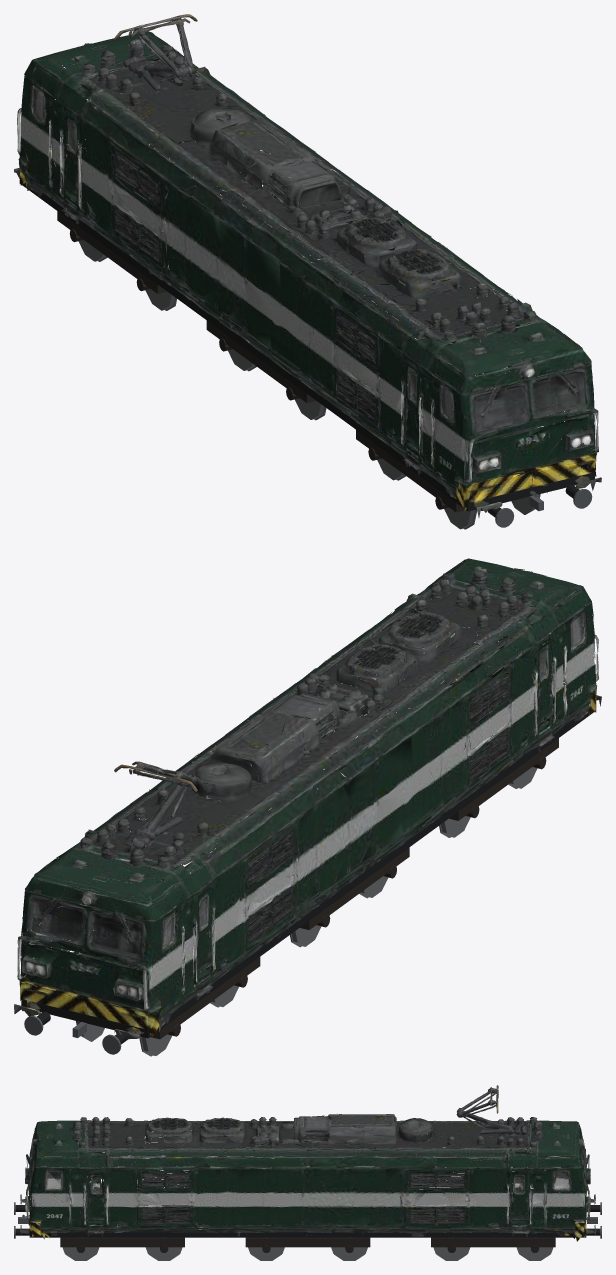
Rendered from srt_m.glb.
3 renders of one model, top to bottom at view 1: azimuth 30°, elevation 25°; view 2: azimuth 150°, elevation 25°; view 3: azimuth 270°, elevation 25°, orthographic. The views are drawn at different scales.
Parts seen in each view (by area): view 1: srt_kori, srt_frame, Bogie_M_side-1, Bogie_R_side-1, Bogie_F_side-1; view 2: srt_kori, srt_frame, Bogie_M_side-1, Bogie_F_side-1, Bogie_R_side-1; view 3: srt_kori, srt_frame, Bogie_M_side1, Bogie_F_side1, Bogie_R_side1, Wheel_M1_wR, Wheel_M2_wR, Wheel_F1_wR, Wheel_R2_wR, Wheel_F2_wR, Wheel_R1_wR.
Boxes of the visible parts, x1,y1,x2,y2 form: srt_kori: (14,14,601,517); srt_frame: (20,144,594,511); Bogie_M_side-1: (206,320,316,403); Bogie_R_side-1: (57,211,166,293); Bogie_F_side-1: (356,430,464,512); srt_kori: (14,558,601,1039); srt_frame: (21,672,593,1038); Bogie_M_side-1: (300,847,409,929); Bogie_F_side-1: (449,738,558,820); Bogie_R_side-1: (151,957,260,1039); srt_kori: (20,1085,595,1241); srt_frame: (29,1194,586,1237); Bogie_M_side1: (245,1237,370,1247); Bogie_F_side1: (60,1237,184,1247); Bogie_R_side1: (431,1237,555,1247); Wheel_M1_wR: (248,1247,284,1260); Wheel_M2_wR: (331,1247,367,1260); Wheel_F1_wR: (63,1247,98,1260); Wheel_R2_wR: (517,1247,552,1260); Wheel_F2_wR: (146,1247,181,1260); Wheel_R1_wR: (434,1247,469,1260).
Bounding box in the file's own units: 3.1 × 5.43 × 18.39.
Materials: 5 (1 with a texture image).
